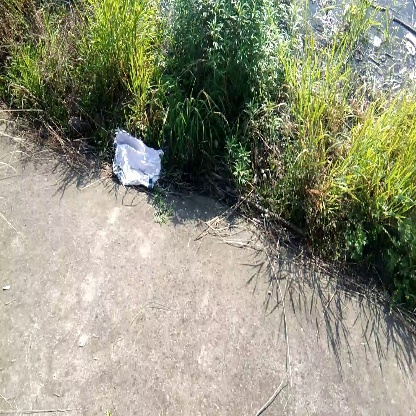plastic-bag: (109, 130, 167, 194)
